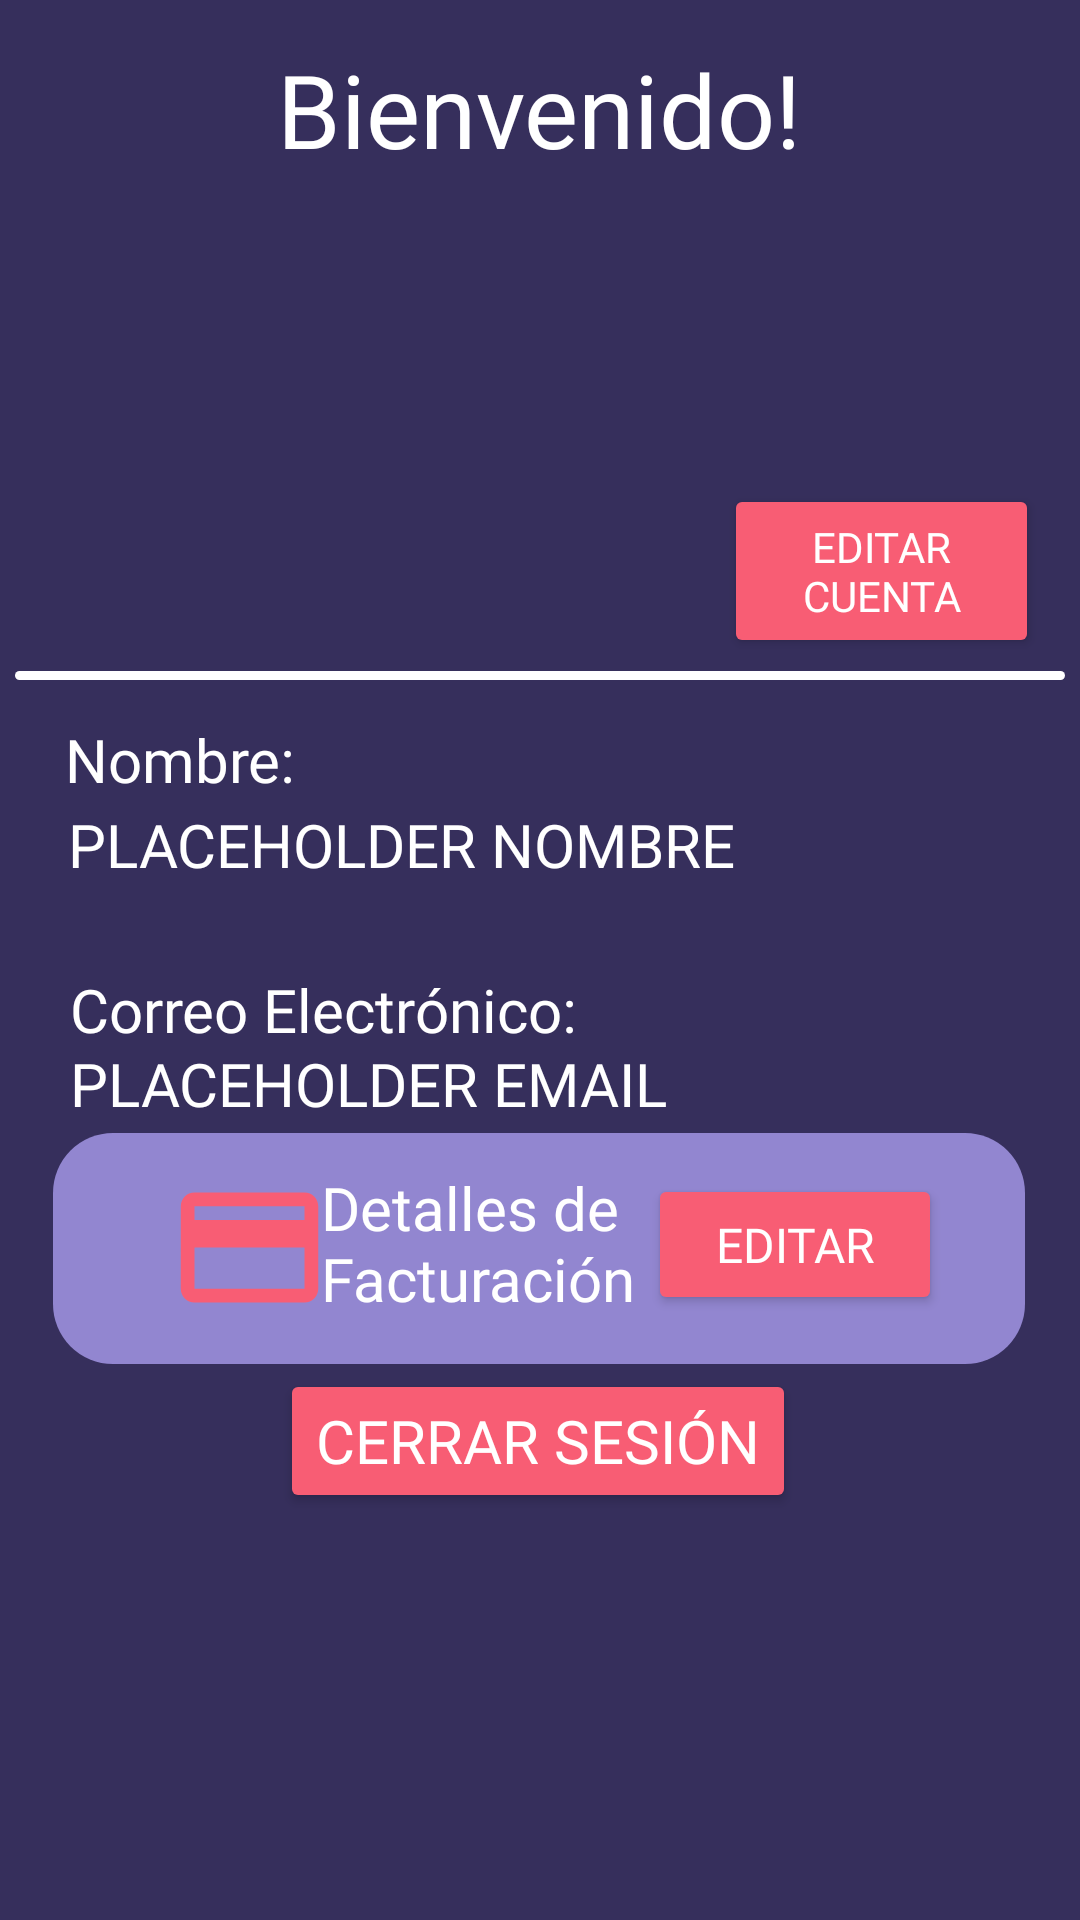

Where to tap for icons on this 1080w x 1920h app screen, as (x=x, y=y):
card: (x=268, y=1245)
